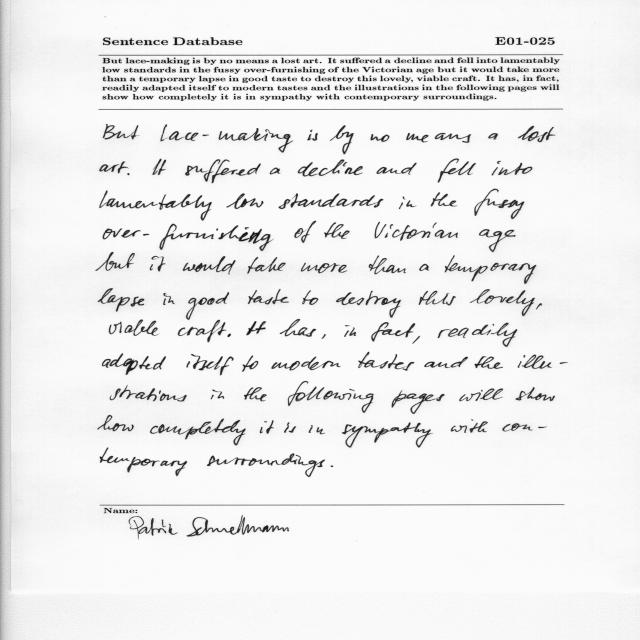word: (103, 224, 274, 251), (160, 124, 293, 153), (100, 190, 212, 221), (207, 454, 325, 478), (288, 381, 374, 413), (445, 255, 537, 284), (150, 419, 246, 446), (100, 449, 187, 477), (342, 422, 433, 448), (438, 323, 517, 347), (185, 160, 261, 184), (336, 291, 401, 318), (470, 289, 535, 316), (279, 193, 384, 209), (375, 222, 458, 241), (475, 189, 525, 219), (102, 353, 166, 375), (110, 385, 187, 402), (392, 390, 445, 414), (186, 292, 229, 320), (98, 288, 145, 312), (298, 160, 363, 177), (178, 320, 227, 342), (358, 352, 414, 371), (186, 354, 234, 375), (183, 256, 235, 275), (272, 357, 341, 371), (438, 159, 476, 183), (371, 322, 415, 342), (109, 319, 159, 336), (479, 229, 515, 252), (518, 354, 568, 369), (96, 252, 135, 271), (369, 256, 406, 275), (330, 126, 354, 155), (248, 289, 289, 305), (407, 133, 472, 143), (280, 319, 316, 337), (248, 257, 286, 274), (518, 126, 555, 142), (227, 193, 264, 209), (98, 416, 134, 432), (492, 161, 533, 175), (459, 389, 503, 402), (419, 291, 456, 306), (516, 388, 555, 402), (104, 125, 139, 140), (451, 419, 488, 433), (376, 163, 417, 175), (295, 221, 317, 243), (424, 357, 468, 368), (301, 263, 347, 273), (324, 222, 350, 239), (502, 423, 547, 432), (431, 193, 458, 207), (474, 356, 503, 369), (100, 162, 129, 174), (244, 388, 267, 402), (242, 355, 259, 372), (246, 321, 266, 335), (150, 256, 166, 271), (302, 290, 318, 305), (399, 196, 416, 209), (153, 159, 166, 175), (260, 420, 274, 434), (371, 134, 390, 142), (163, 293, 175, 305), (344, 325, 356, 337), (309, 426, 325, 435), (210, 390, 224, 400), (284, 422, 296, 433), (307, 130, 318, 141), (488, 133, 498, 140), (270, 168, 280, 175), (419, 264, 429, 271), (412, 336, 420, 344), (536, 303, 542, 310), (321, 334, 326, 339), (228, 334, 231, 337), (127, 173, 130, 175), (331, 466, 334, 467)
